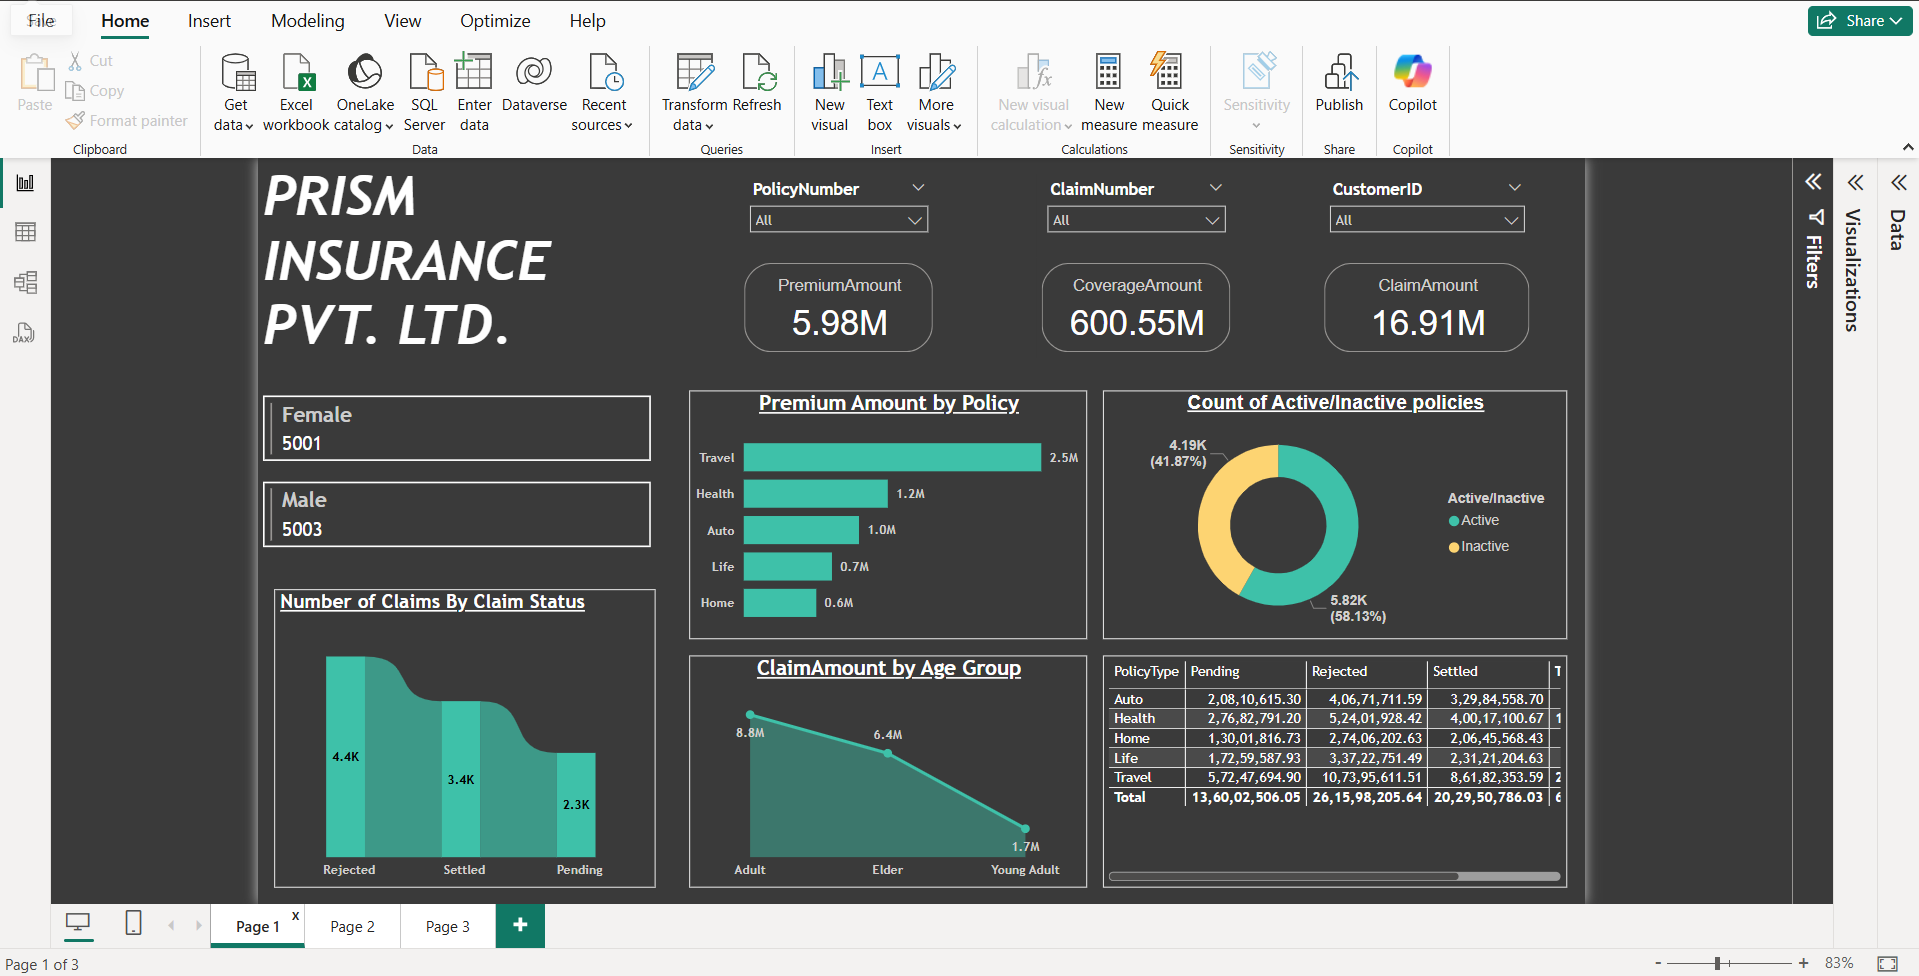

The page's visual inventory and layout, read from the dashboard file:
{"tool":"powerbi","page":{"name":"Page 1","canvas":[1280,720],"ordinal":0},"visuals":[{"type":"slicer","fields":{"Values":["InsuranceData.PolicyNumber"]},"box":[464,16,192,80],"z":0},{"type":"slicer","fields":{"Values":["InsuranceData.CustomerID"]},"box":[1024,16,208,80],"z":1000},{"type":"slicer","fields":{"Values":["InsuranceData.ClaimNumber"]},"box":[752,16,192,80],"z":2000},{"type":"textbox","box":[0,0,384,208],"z":3000},{"type":"cardVisual","fields":{"Data":["Sum(InsuranceData.PremiumAmount)"]},"box":[464,96,192,96],"z":4000},{"type":"cardVisual","fields":{"Data":["Sum(InsuranceData.CoverageAmount)"]},"box":[752,96,192,96],"z":5000},{"type":"cardVisual","fields":{"Data":["Sum(InsuranceData.ClaimAmount)"]},"box":[1024,96,208,96],"z":6000},{"type":"multiRowCard","fields":{"Values":["InsuranceData.Gender","CountNonNull(InsuranceData.Gender)"]},"box":[0,224,384,192],"z":7000},{"type":"ribbonChart","title":"Number of Claims By Claim Status","fields":{"Category":["InsuranceData.ClaimStatus"],"Y":["CountNonNull(InsuranceData.ClaimStatus)"]},"box":[16,416,368,288],"z":8000},{"type":"barChart","title":"Premium Amount by Policy","fields":{"Category":["InsuranceData.PolicyType"],"Y":["Sum(InsuranceData.PremiumAmount)"]},"box":[416,224,384,240],"z":9000},{"type":"lineChart","title":"ClaimAmount by Age Group","fields":{"Category":["InsuranceData.Age Group"],"Y":["Sum(InsuranceData.ClaimAmount)"]},"box":[416,480,384,224],"z":10000},{"type":"donutChart","title":"Count of Active/Inactive policies","fields":{"Category":["InsuranceData.Active/Inactive"],"Y":["CountNonNull(InsuranceData.Active/Inactive)"]},"box":[816,224,448,240],"z":11000},{"type":"pivotTable","fields":{"Values":["Sum(InsuranceData.CoverageAmount)"],"Rows":["InsuranceData.PolicyType"],"Columns":["InsuranceData.ClaimStatus"]},"box":[816,480,448,224],"z":12000}]}

Visuals, with their boxes on the page's 1280x720 design canvas (x1, y1, x2, y2). These are canvas units, not pixel positions in the 1919x976 screenshot, which may show the page scaled, cropped or inside an application window:
slicer - InsuranceData.PolicyNumber: 464/16/656/96
slicer - InsuranceData.CustomerID: 1024/16/1232/96
slicer - InsuranceData.ClaimNumber: 752/16/944/96
textbox: 0/0/384/208
cardVisual - Sum(InsuranceData.PremiumAmount): 464/96/656/192
cardVisual - Sum(InsuranceData.CoverageAmount): 752/96/944/192
cardVisual - Sum(InsuranceData.ClaimAmount): 1024/96/1232/192
multiRowCard - InsuranceData.Gender x CountNonNull(InsuranceData.Gender): 0/224/384/416
"Number of Claims By Claim Status" ribbonChart: 16/416/384/704
"Premium Amount by Policy" barChart: 416/224/800/464
"ClaimAmount by Age Group" lineChart: 416/480/800/704
"Count of Active/Inactive policies" donutChart: 816/224/1264/464
pivotTable - Sum(InsuranceData.CoverageAmount) x InsuranceData.PolicyType: 816/480/1264/704
